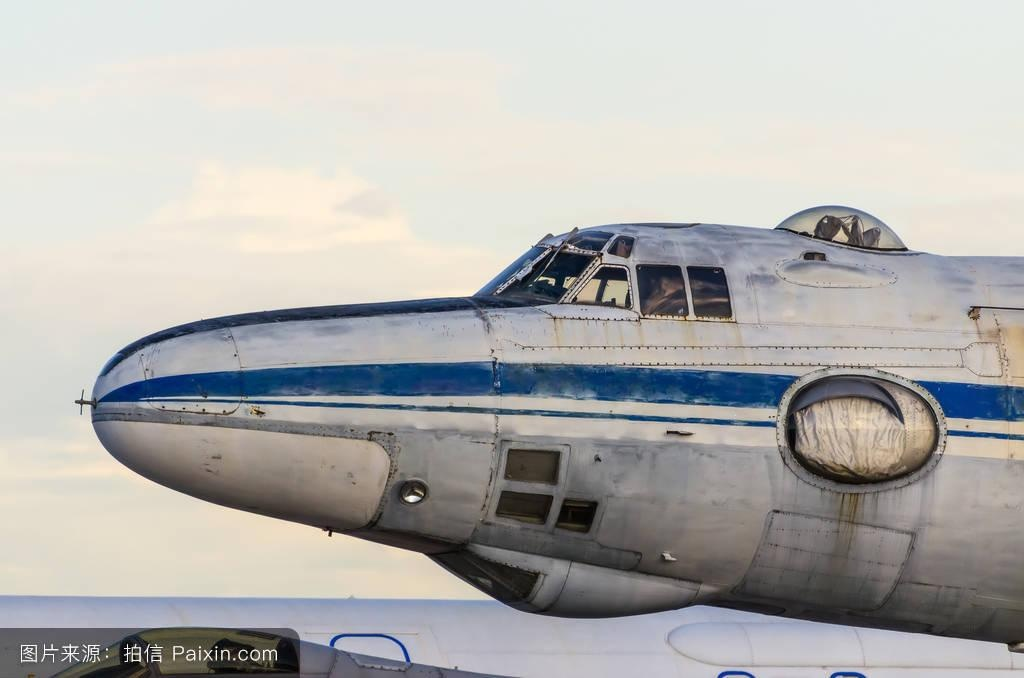airplane: (69, 206, 1024, 616)
